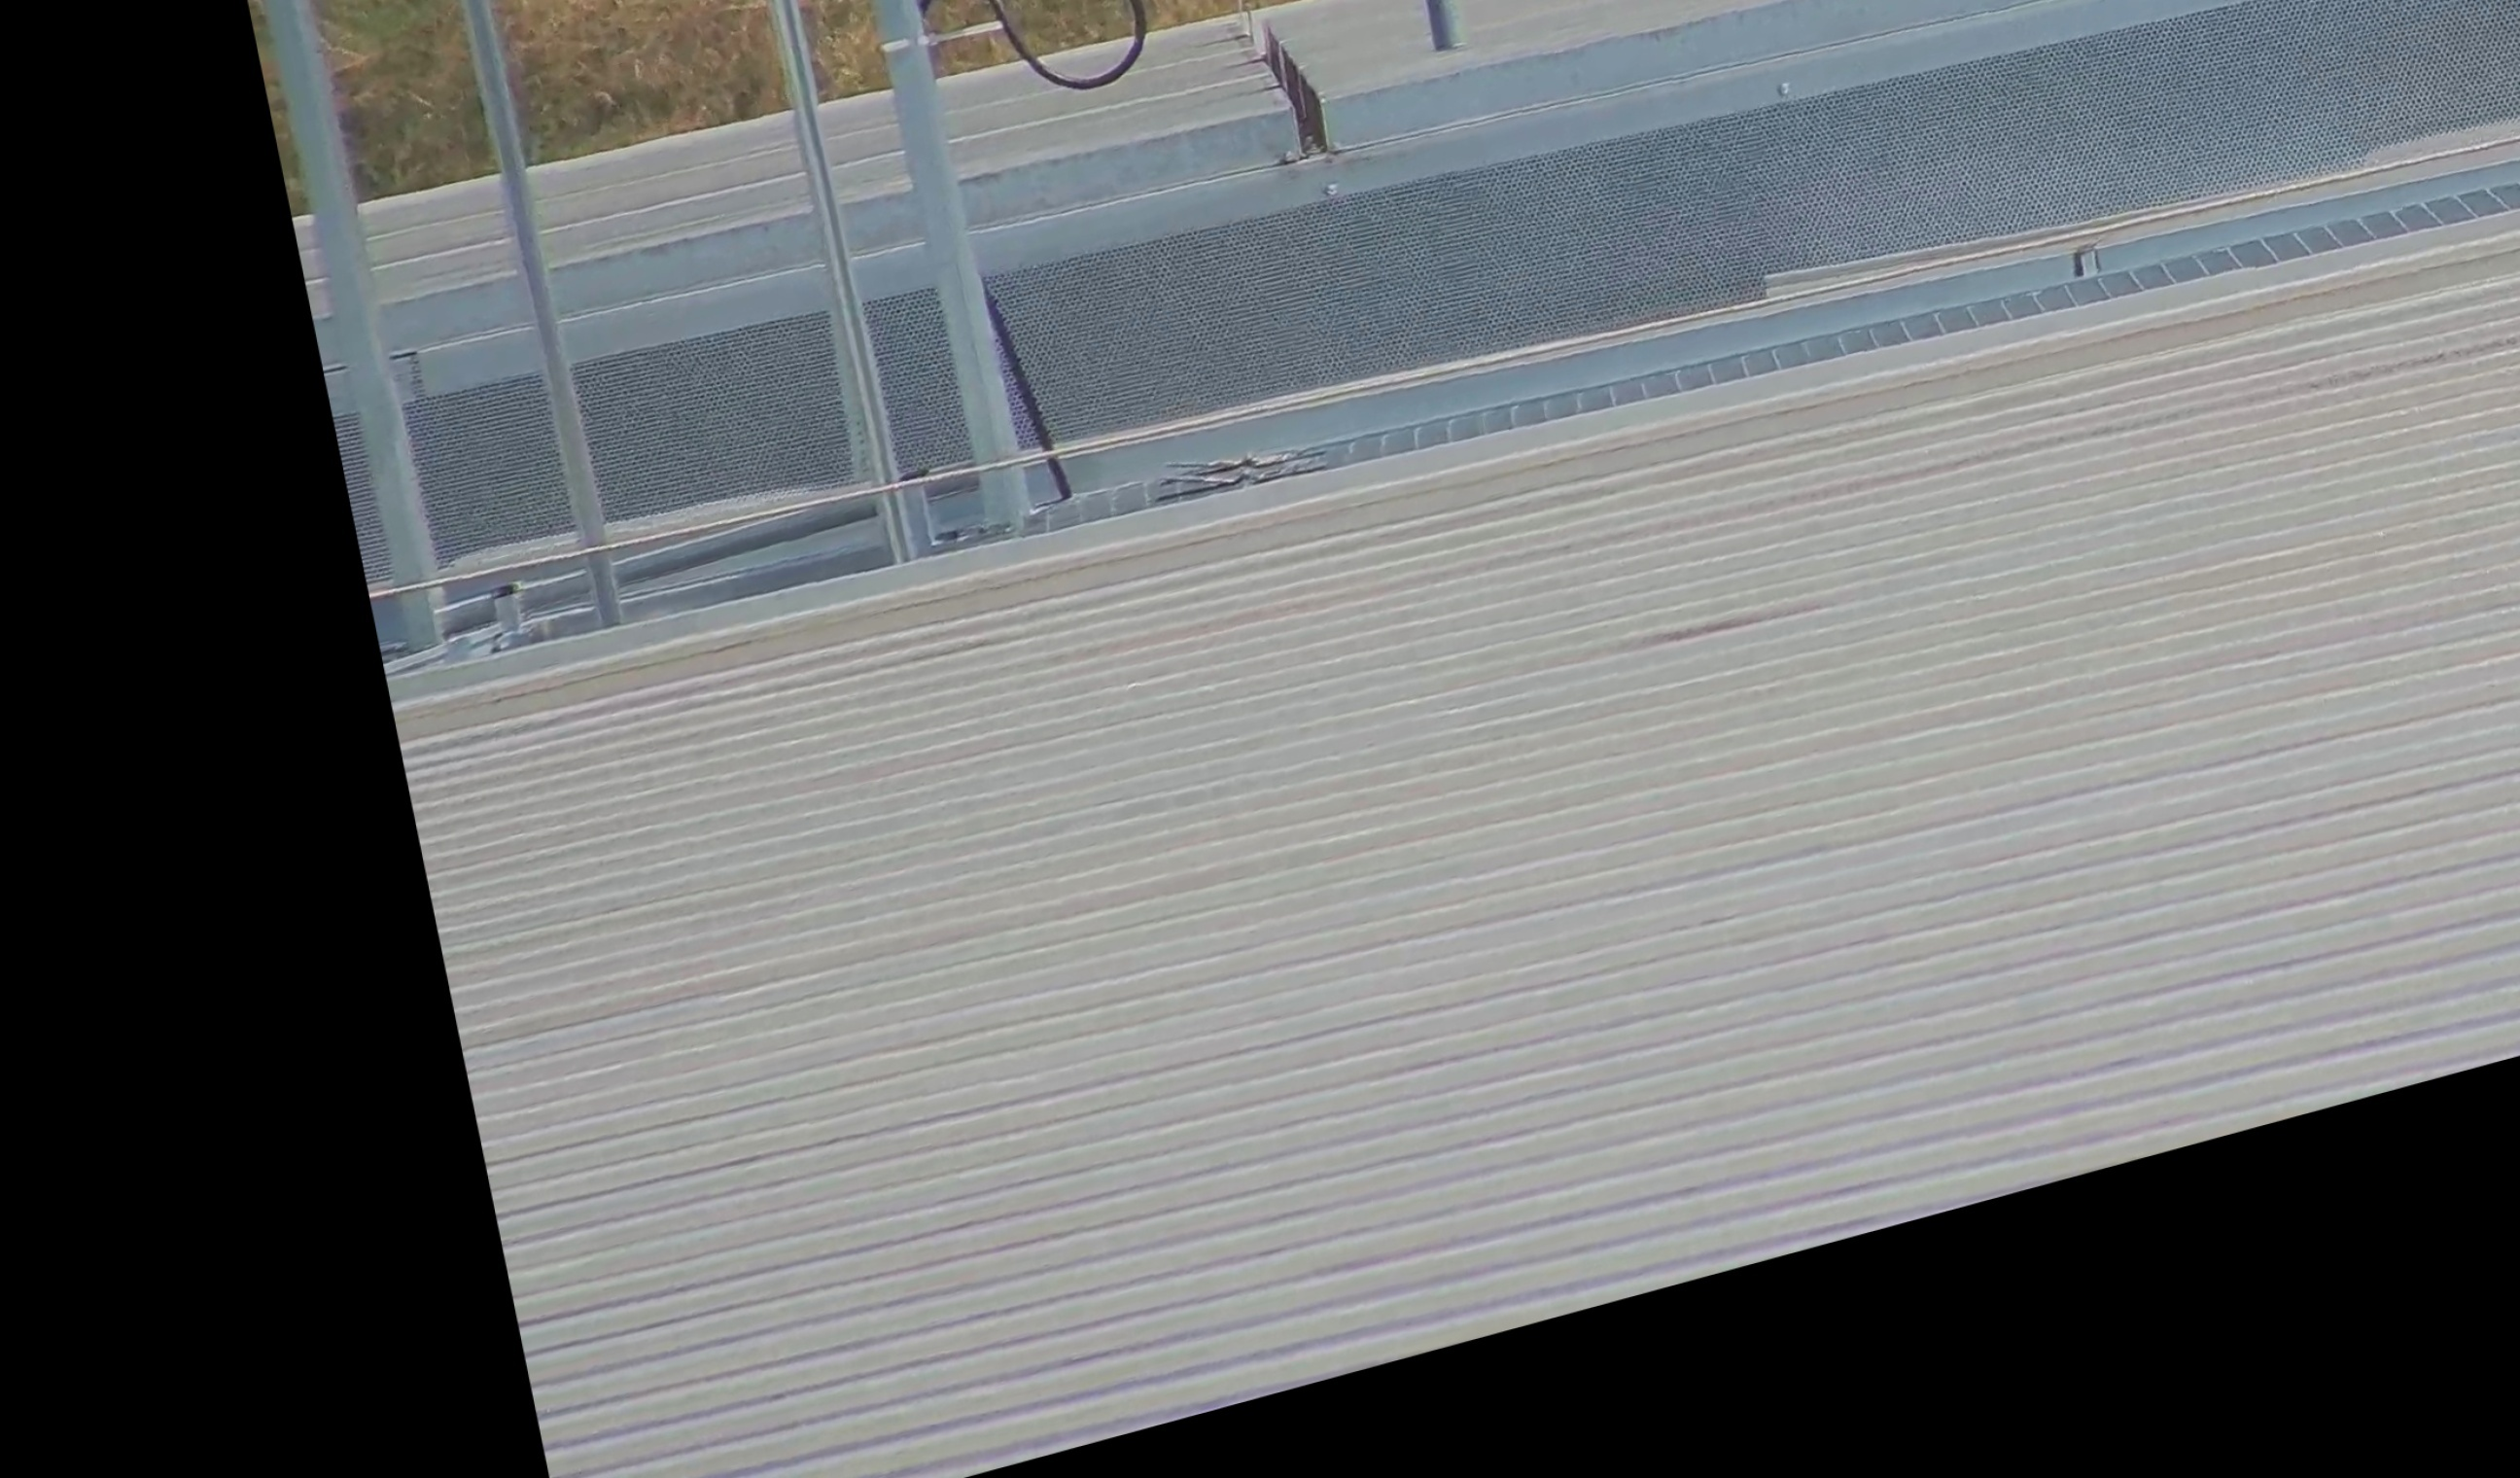Other: (1215, 0, 1340, 179)
